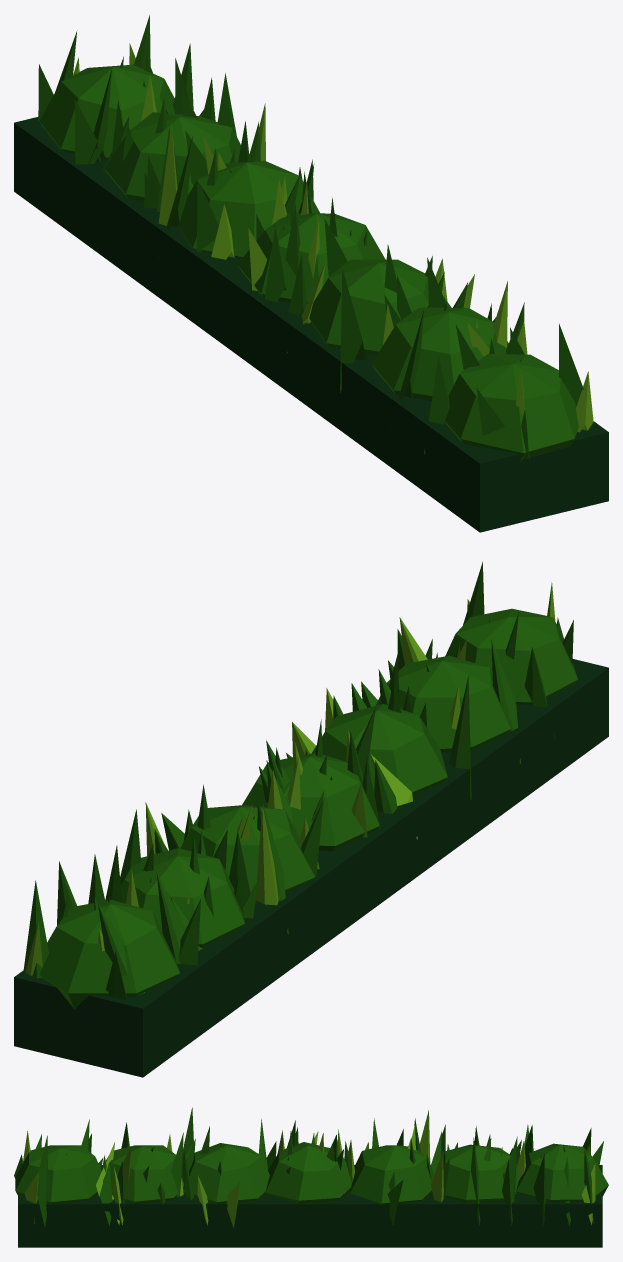
File: edge_hedge_front.gltf
The picture shows the model from 3 angles, top to bottom: view 1: azimuth 30°, elevation 25°; view 2: azimuth 150°, elevation 25°; view 3: azimuth 270°, elevation 25°; orthographic projection. The views are drawn at different scales.
Parts seen in each view (by area): view 1: edge_hedge_front; view 2: edge_hedge_front; view 3: edge_hedge_front.
Boxes of the visible parts, box(x1,y1,x2,y2) form: edge_hedge_front: box(14, 15, 608, 532); edge_hedge_front: box(14, 561, 608, 1077); edge_hedge_front: box(14, 1107, 608, 1247).
Size of the model in its own units: 1.05 by 1.17 by 5.98.
